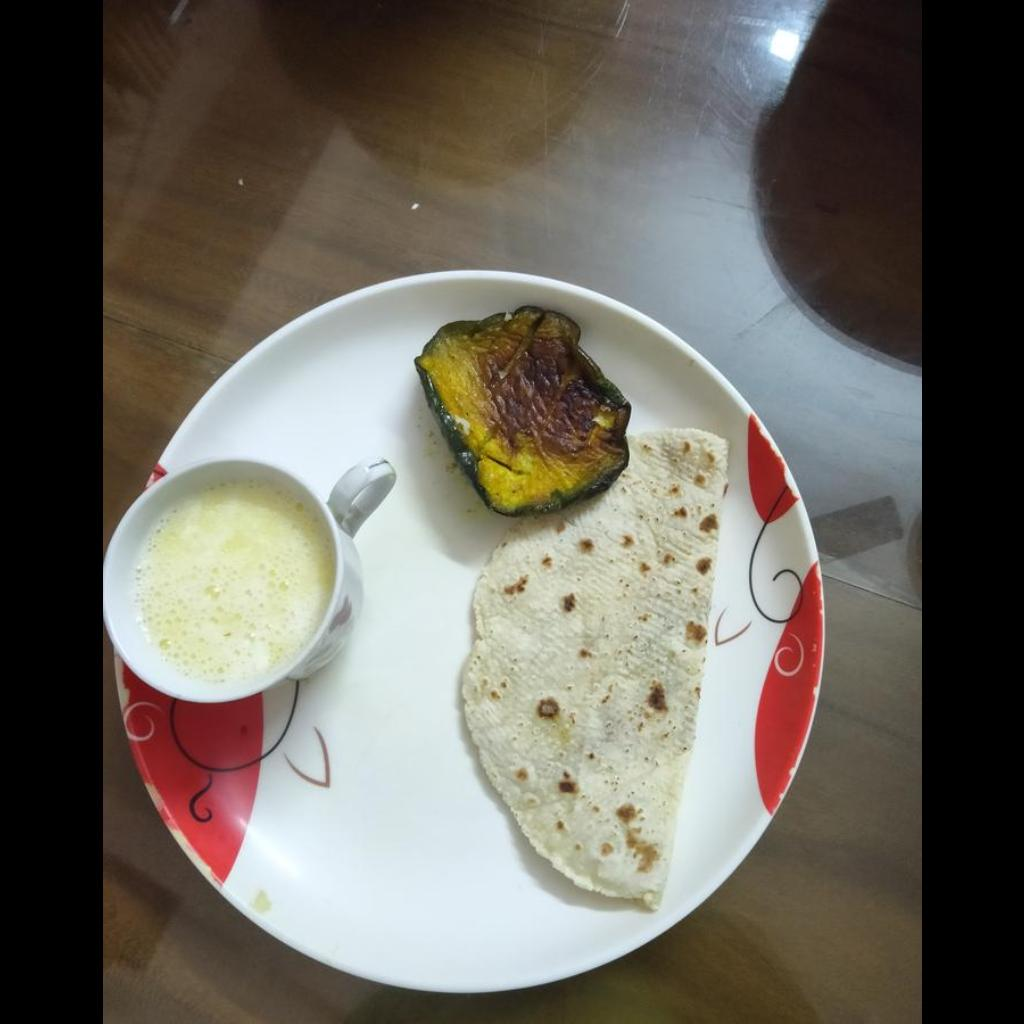begun-vaji: (417, 305, 635, 516)
milk: (127, 482, 333, 686)
ruti: (460, 429, 733, 907)
